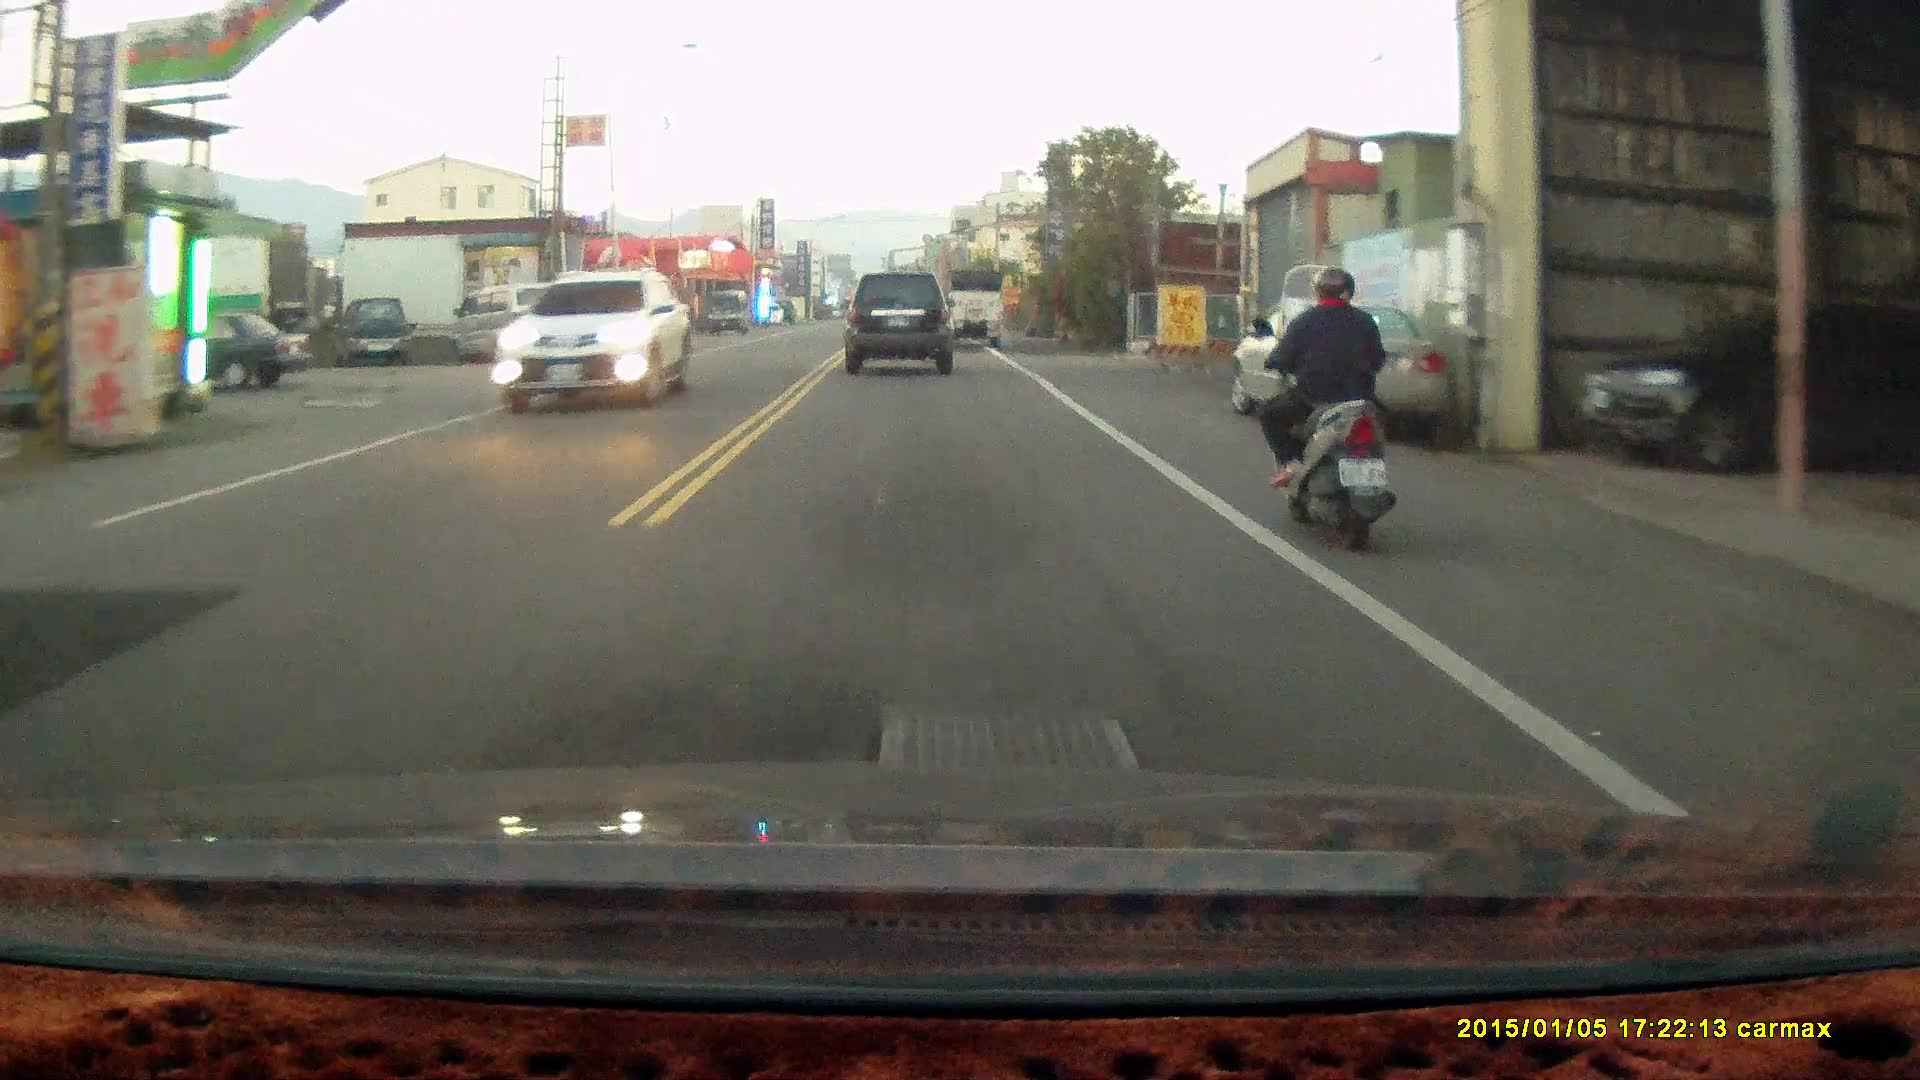rider: (1253, 264, 1399, 554)
vehicle: (1581, 293, 1909, 471), (1227, 300, 1464, 443), (488, 265, 695, 408), (119, 312, 313, 393), (846, 270, 957, 377), (453, 281, 571, 366), (942, 269, 1008, 348), (345, 295, 412, 364)
